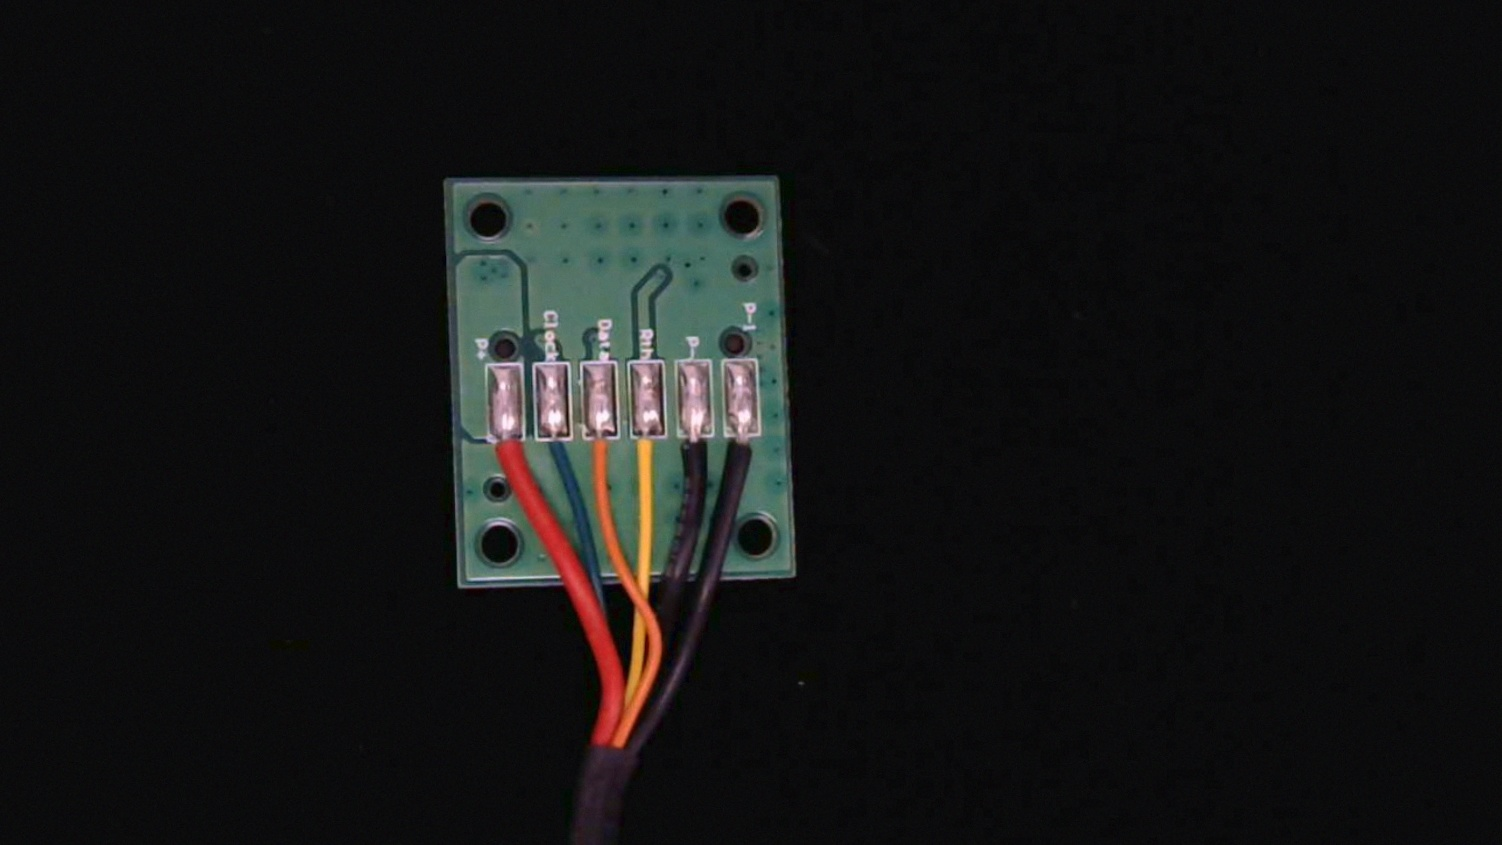Black: (676, 419, 718, 509)
Black1: (727, 412, 768, 494)
Green: (533, 417, 578, 498)
Orange: (582, 420, 623, 509)
Red: (487, 421, 530, 507)
Yellow: (630, 415, 673, 507)
